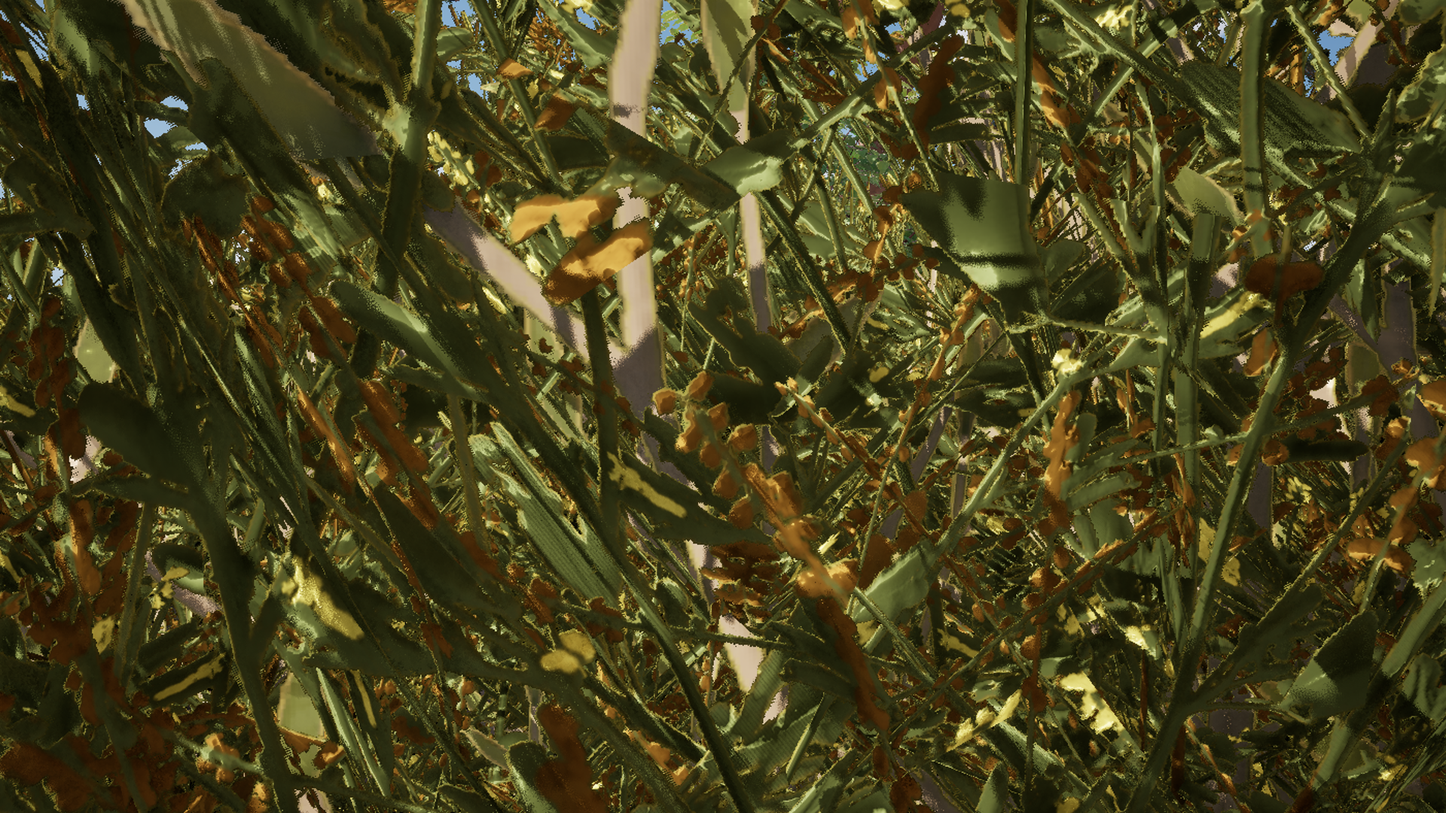Piplup: (362, 0, 925, 813)
